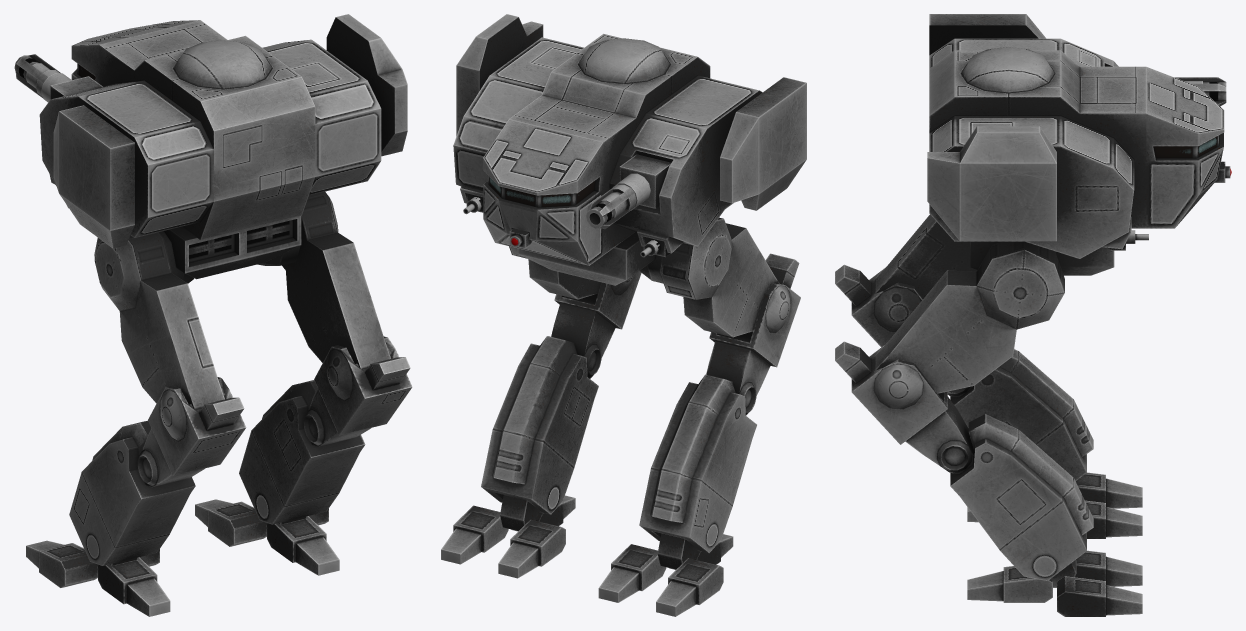
The model's file is Cicada.FBX.
The picture shows the model from 3 angles, left to right: view 1: azimuth 30°, elevation 25°; view 2: azimuth 150°, elevation 25°; view 3: azimuth 270°, elevation 25°; orthographic projection. The views are drawn at different scales.
Visible parts, largest first — view 1: torso, llowerleg, rlowerleg, lupperleg, rupperleg, llowerarm, pelvis, rlowerarm, rbacktoe, lbacktoe, rfronttoes, lfronttoes (+2 smaller); view 2: torso, llowerleg, rlowerleg, lupperleg, llowerarm, lfronttoes, rfronttoes, rlowerarm, pelvis, rupperleg, mantlet_1, erppc (+6 smaller); view 3: torso, rlowerleg, rupperleg, rlowerarm, llowerleg, rfronttoes, lupperleg, lfronttoes, llowerarm, rbacktoe, pelvis, erppc.
Part boxes in pixels (box(x1,y1,x2,y2)): torso: box(39, 20, 381, 240); llowerleg: box(69, 377, 246, 565); rlowerleg: box(239, 336, 412, 524); lupperleg: box(94, 232, 224, 409); rupperleg: box(282, 191, 390, 369); llowerarm: box(53, 105, 134, 248); pelvis: box(159, 216, 301, 283); rlowerarm: box(326, 14, 407, 156); rbacktoe: box(267, 516, 339, 575); lbacktoe: box(98, 557, 170, 616); rfronttoes: box(195, 499, 328, 546); lfronttoes: box(26, 540, 159, 587); torso: box(453, 33, 762, 265); llowerleg: box(639, 253, 800, 553); rlowerleg: box(481, 271, 641, 514); lupperleg: box(659, 217, 779, 337); llowerarm: box(720, 77, 806, 210); lfronttoes: box(598, 544, 723, 616); rfronttoes: box(441, 505, 565, 578); rlowerarm: box(456, 14, 543, 136); pelvis: box(517, 231, 663, 285); rupperleg: box(509, 246, 601, 299); mantlet_1: box(619, 154, 671, 208); erppc: box(586, 184, 635, 229); torso: box(929, 38, 1224, 258); rlowerleg: box(835, 341, 1093, 580); rupperleg: box(875, 241, 1064, 393); rlowerarm: box(927, 126, 1056, 241); llowerleg: box(835, 264, 1093, 480); rfronttoes: box(1057, 550, 1142, 616); lupperleg: box(875, 214, 977, 298); lfronttoes: box(1076, 472, 1142, 538); llowerarm: box(929, 14, 1046, 55); rbacktoe: box(967, 566, 1052, 602); pelvis: box(970, 241, 1114, 275); erppc: box(1175, 77, 1226, 106).
Bounding box in the file's own units: 28.76 × 47.19 × 33.83.
1 material, 1 textured.
